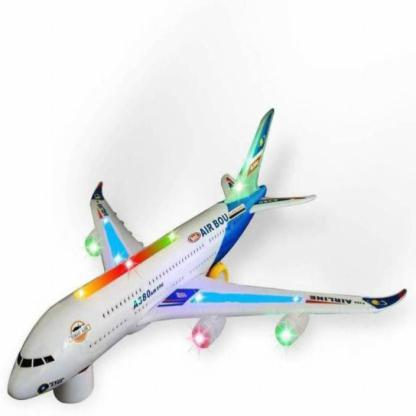CIV_Plane: (3, 103, 408, 408)
